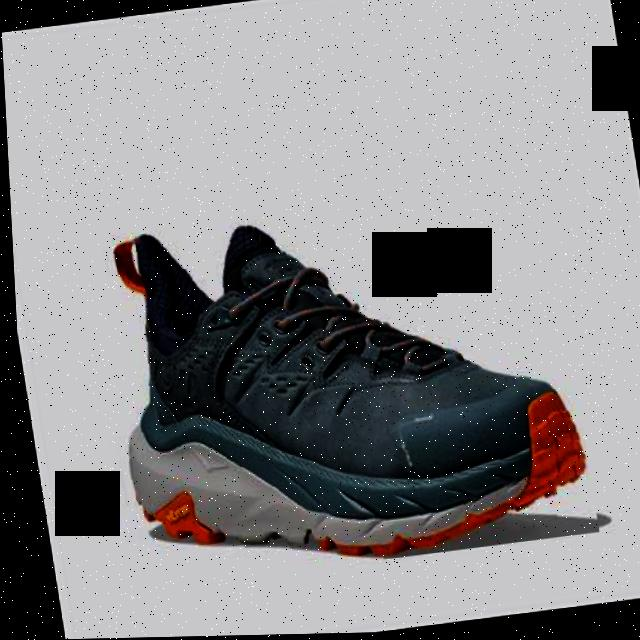shoe: (98, 207, 589, 565)
